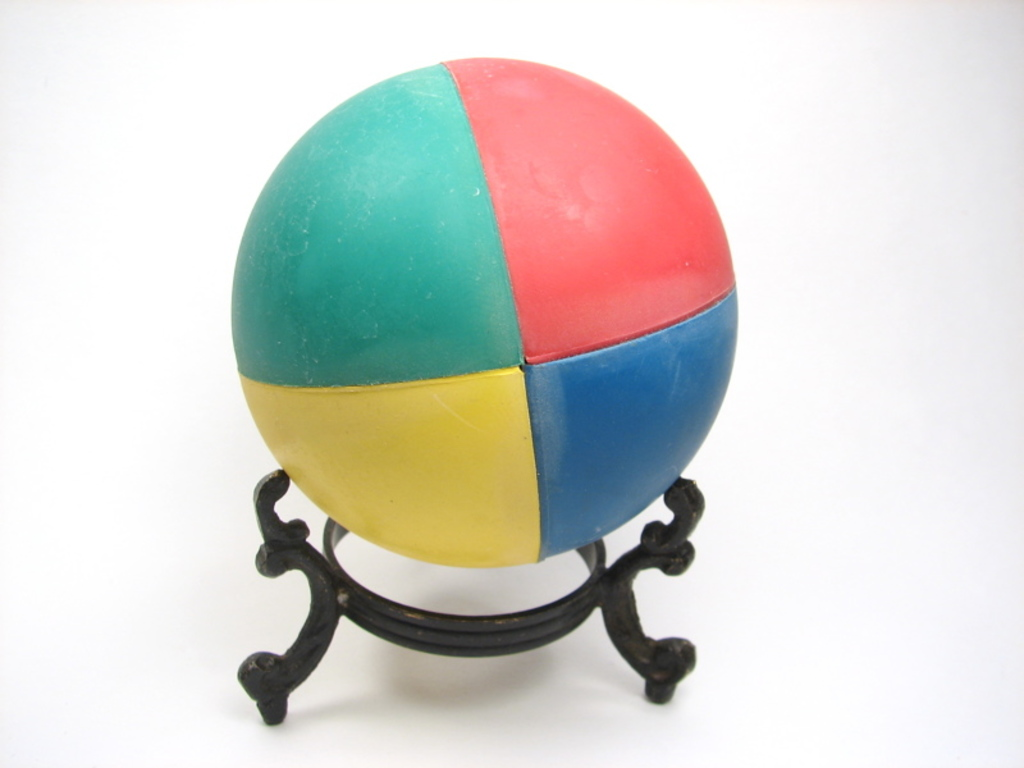Ball: (230, 55, 735, 566)
